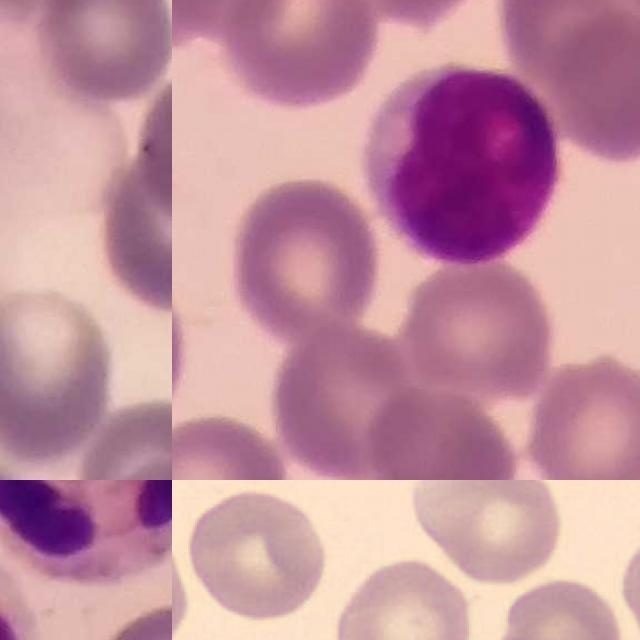Eosinophil: (0, 480, 172, 587)
Lymphocyte: (364, 61, 563, 269), (0, 495, 42, 640)
Monocyte: (0, 0, 117, 366)
RBC: (183, 484, 330, 624), (408, 480, 568, 585), (330, 555, 476, 640), (490, 572, 627, 640), (611, 512, 640, 640)
